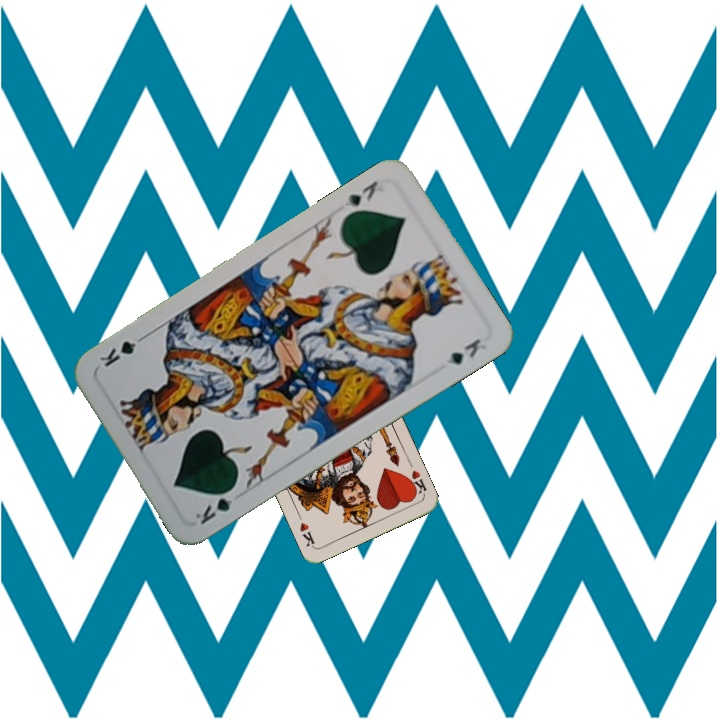GK: (191, 482, 239, 528), (340, 176, 381, 211)
HK: (403, 466, 429, 498)
